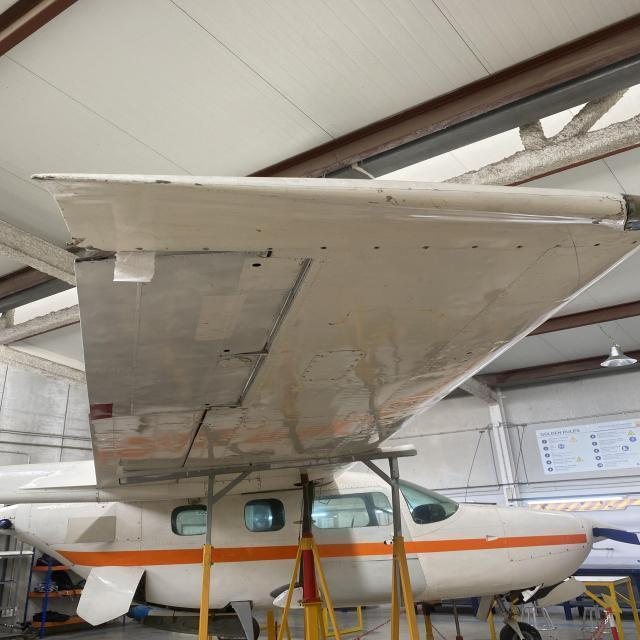Fastener Damage: (592, 242, 602, 247), (515, 244, 523, 250), (373, 246, 381, 251), (319, 246, 328, 250), (266, 247, 274, 251), (632, 240, 638, 245)
Rupture: (342, 183, 591, 199), (616, 200, 625, 215)
